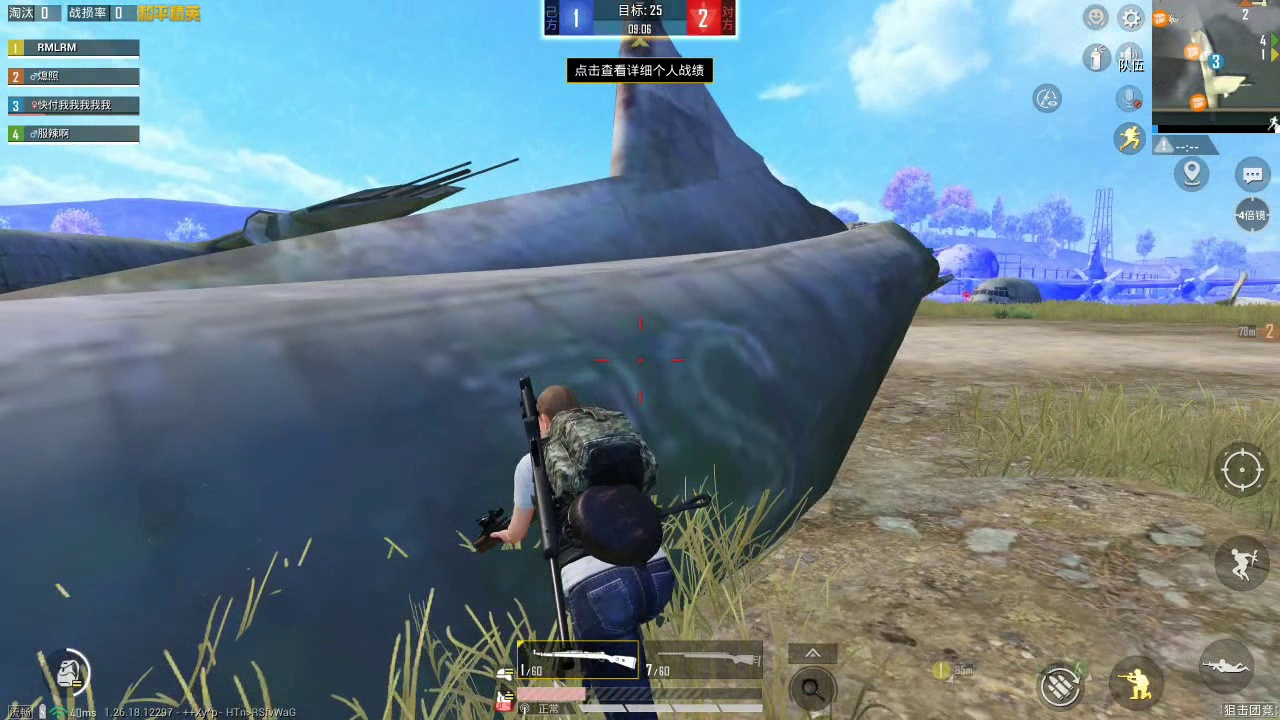enemy: (962, 290, 971, 302)
